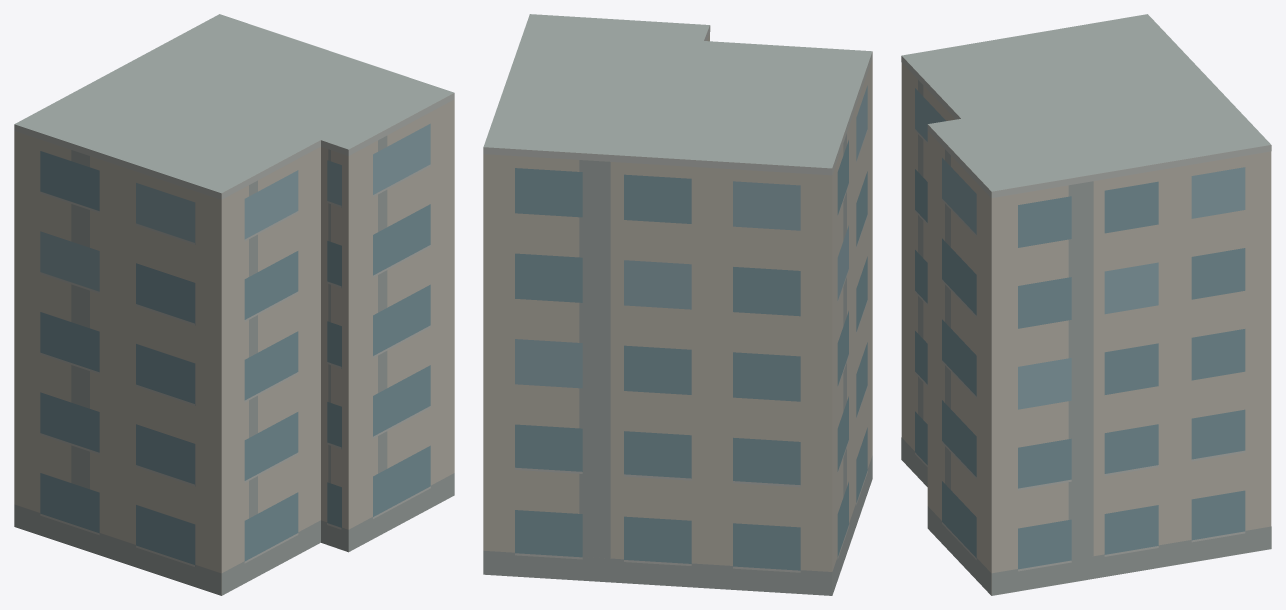
File: survey-upis-32722149.glb
3 renders of one model, left to right at view 1: azimuth 30°, elevation 25°; view 2: azimuth 150°, elevation 25°; view 3: azimuth 270°, elevation 25°, orthographic. The views are drawn at different scales.
Parts seen in each view (by area): view 1: survey-upis-32722149.tmp; view 2: survey-upis-32722149.tmp; view 3: survey-upis-32722149.tmp.
Boxes of the visible parts, x1=… form: survey-upis-32722149.tmp: x1=14, y1=14, x2=454, y2=595; survey-upis-32722149.tmp: x1=483, y1=14, x2=872, y2=595; survey-upis-32722149.tmp: x1=901, y1=14, x2=1271, y2=595.
Bounding box in the file's own units: 14.15 × 15 × 12.45.
